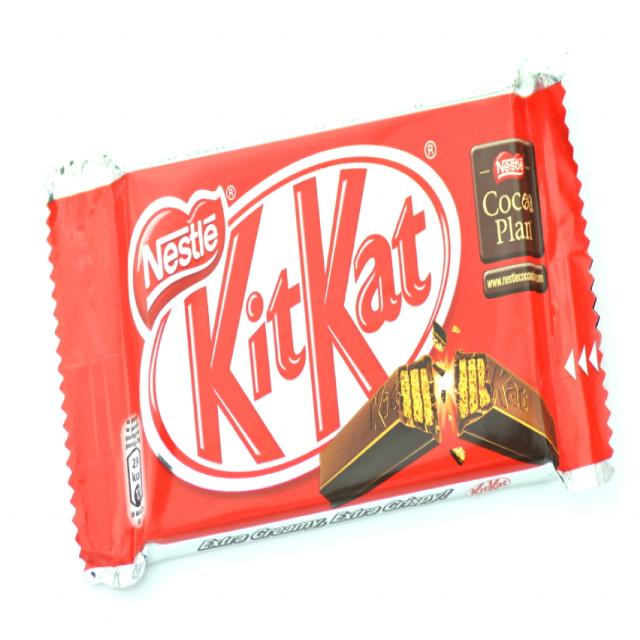kitkat: (42, 73, 619, 588)
